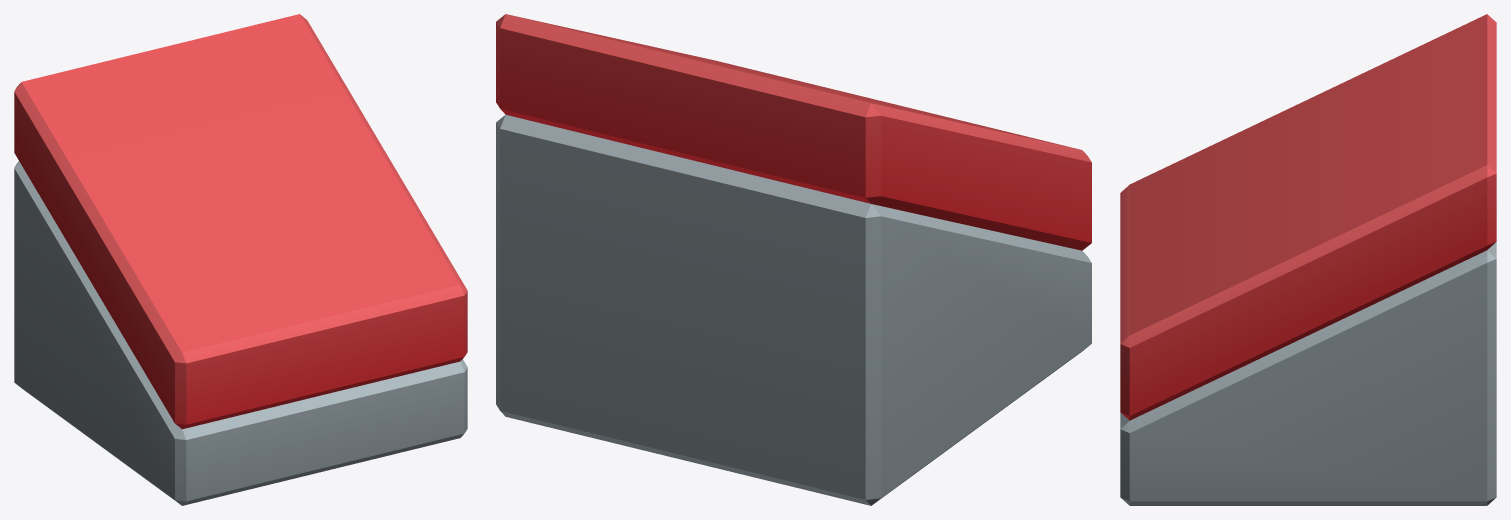
File: platform_slope_2x2x2_red.glb
3 views of the same model, side by side, from view 1: azimuth 30°, elevation 25°; view 2: azimuth 150°, elevation 25°; view 3: azimuth 270°, elevation 25° (orthographic). The views are drawn at different scales.
Parts seen in each view (by area): view 1: platform_slope_2x2x2_red; view 2: platform_slope_2x2x2_red; view 3: platform_slope_2x2x2_red.
Part boxes in pixels (x1,y1,x2,y2): platform_slope_2x2x2_red: (14,14,467,505); platform_slope_2x2x2_red: (496,14,1091,505); platform_slope_2x2x2_red: (1120,14,1496,505).
Size of the model in its own units: 2 by 2 by 2.
1 material, 1 textured.
